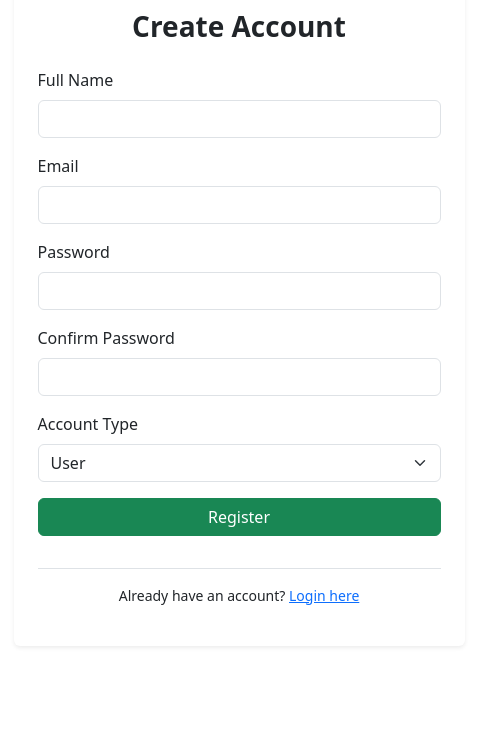
Test: RegisterPage › handles "Email already exists" error (409)
Type "User" into the field with test id "name-input".
click(239, 119); type("User")  # box 38,100 -> 440,138
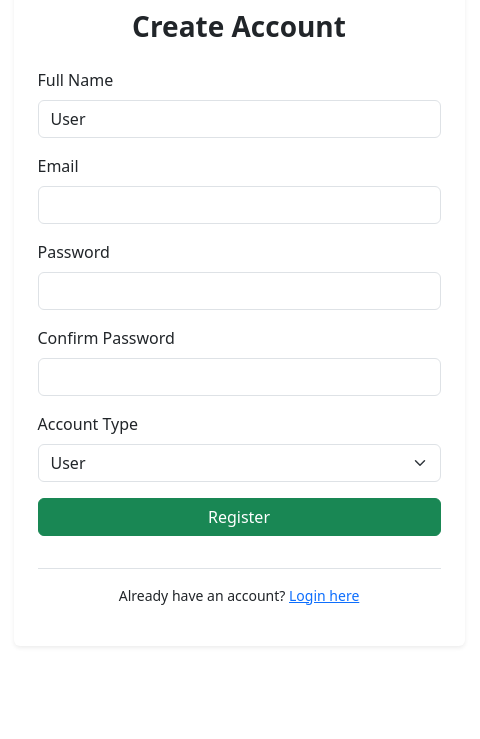
Type "exists@test.com" into the field with test id "email-input".
click(239, 205); type("exists@test.com")  # box 38,186 -> 440,224
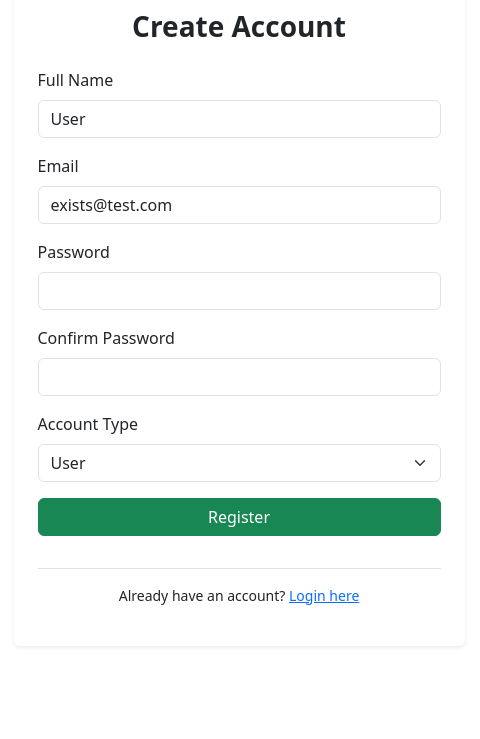
Type "TestPassword123!" into the password field with test id "password-input".
click(239, 291); type("TestPassword123!")  # box 38,272 -> 440,310
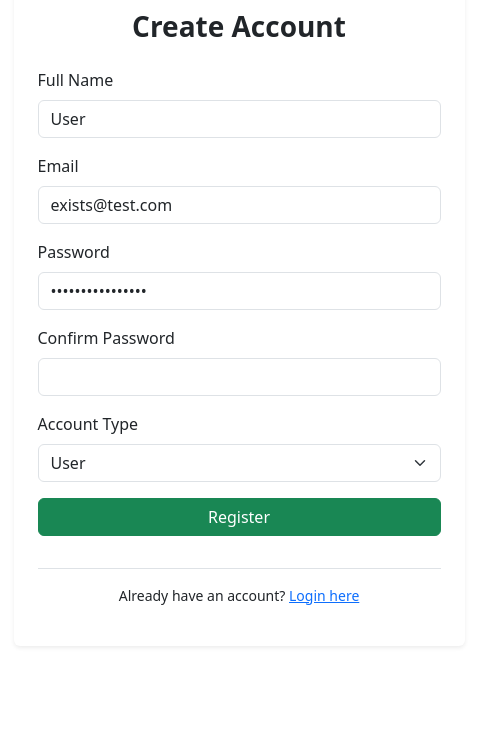
Type "TestPassword123!" into the password field with test id "confirm-password-input".
click(239, 377); type("TestPassword123!")  # box 38,358 -> 440,396
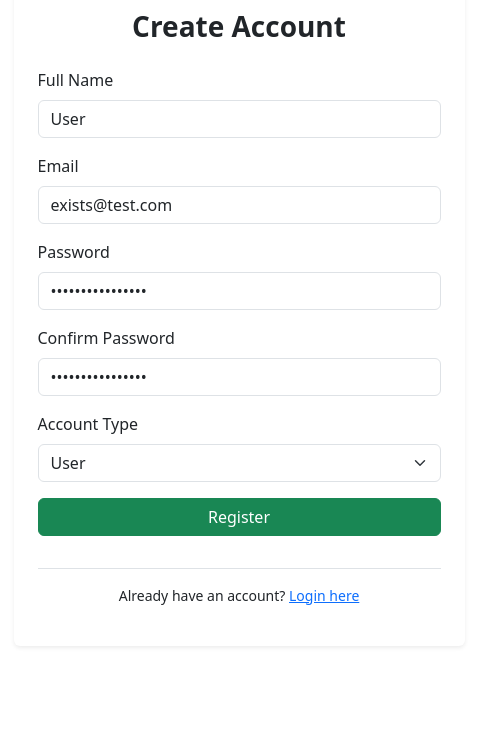
Click the button with test id "register-button".
click(239, 517)  # box 38,498 -> 440,536
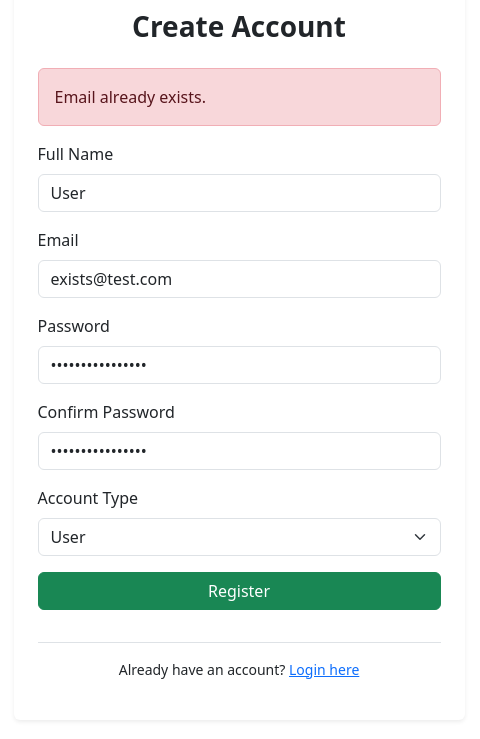
Check: the text with test id "register-error" shows "Email already exists", box 54,86 -> 206,108
